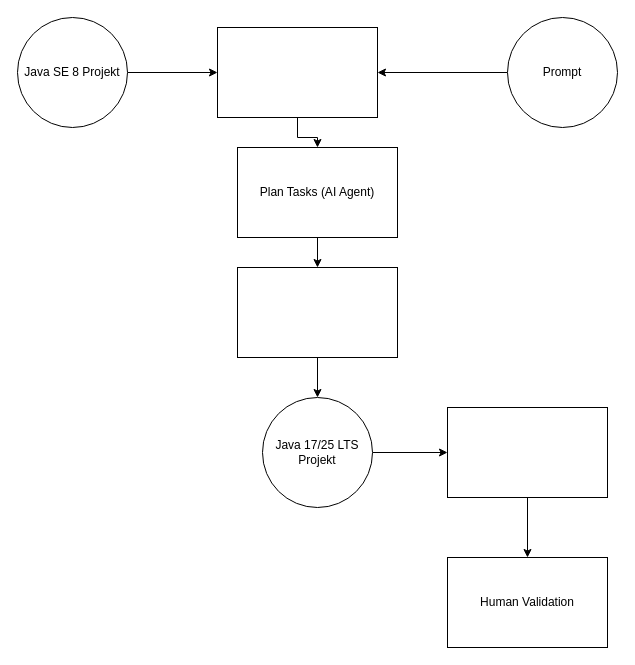
Some shapes in this 635 by 665 pixel diagram are drawn without their labels. The centre of each missing label's shape, as x and y in pixels:
"Analyze Project (AI Agent)" goes at point 297,72.
"Automatic Validation (AI Agent and IDE tools)" goes at point 527,452.
"Refactor Project (AI Agent)" goes at point 317,312.
